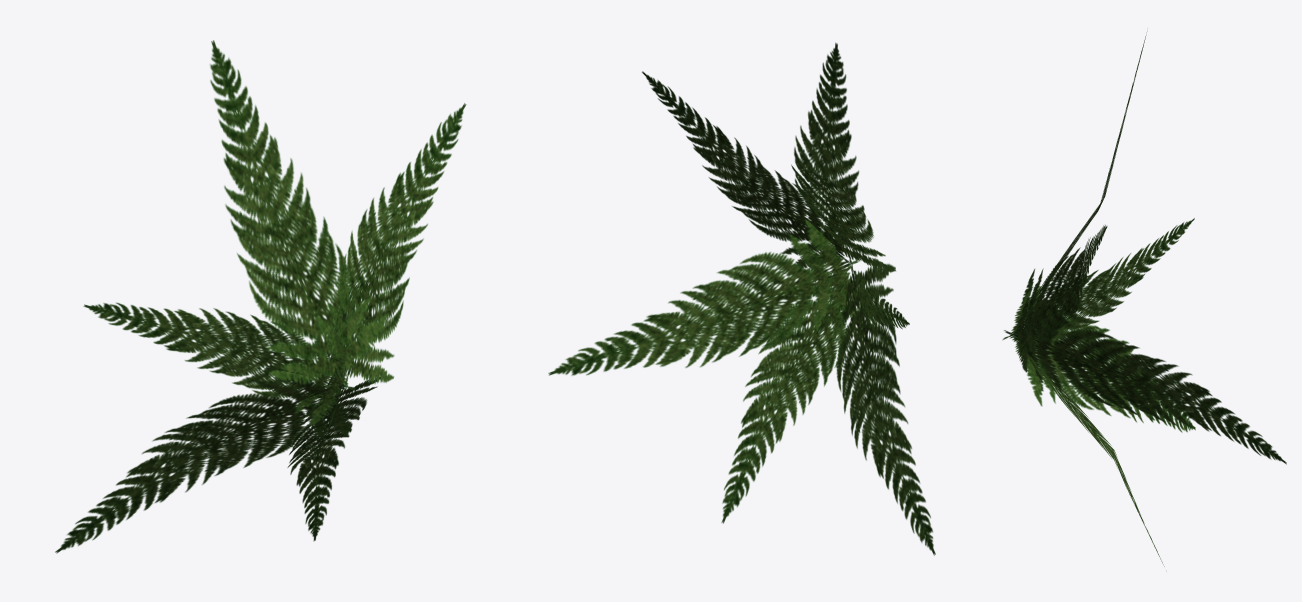
The model's file is fern_LOD100.glb.
3 renders of one model, left to right at view 1: azimuth 30°, elevation 25°; view 2: azimuth 150°, elevation 25°; view 3: azimuth 270°, elevation 25°, orthographic. The views are drawn at different scales.
Parts seen in each view (by area): view 1: vegetation_1.png__; view 2: vegetation_1.png__; view 3: vegetation_1.png__.
Boxes of the visible parts, x1,y1,x2,y2 form: vegetation_1.png__: (55,40,466,553); vegetation_1.png__: (548,42,935,555); vegetation_1.png__: (1002,31,1286,566).
Size of the model in its own units: 5.53 by 6.77 by 3.39.
Materials: 1 (1 with a texture image).
